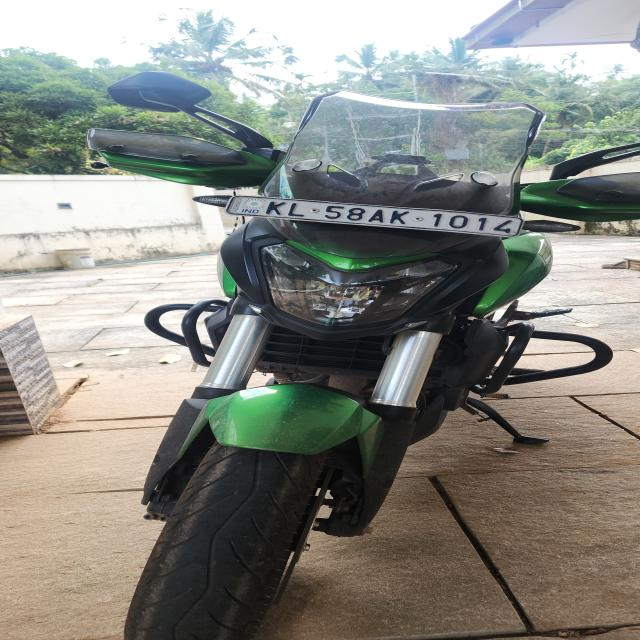headlight: (253, 240, 463, 328)
